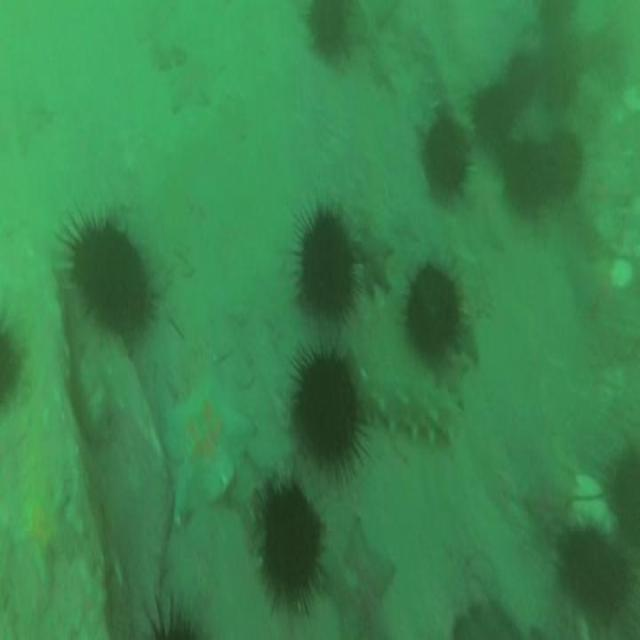echinus: (70, 222, 153, 342), (258, 482, 325, 594), (294, 349, 358, 458), (558, 524, 628, 620), (298, 212, 356, 316), (417, 111, 473, 202), (404, 267, 460, 354), (506, 136, 546, 213), (469, 78, 518, 138), (546, 124, 580, 202), (305, 0, 350, 55), (506, 54, 540, 104)
holothurian: (352, 365, 464, 444)
starfish: (160, 375, 252, 523), (323, 513, 396, 640), (169, 48, 225, 110), (356, 221, 394, 291), (523, 468, 568, 526)
